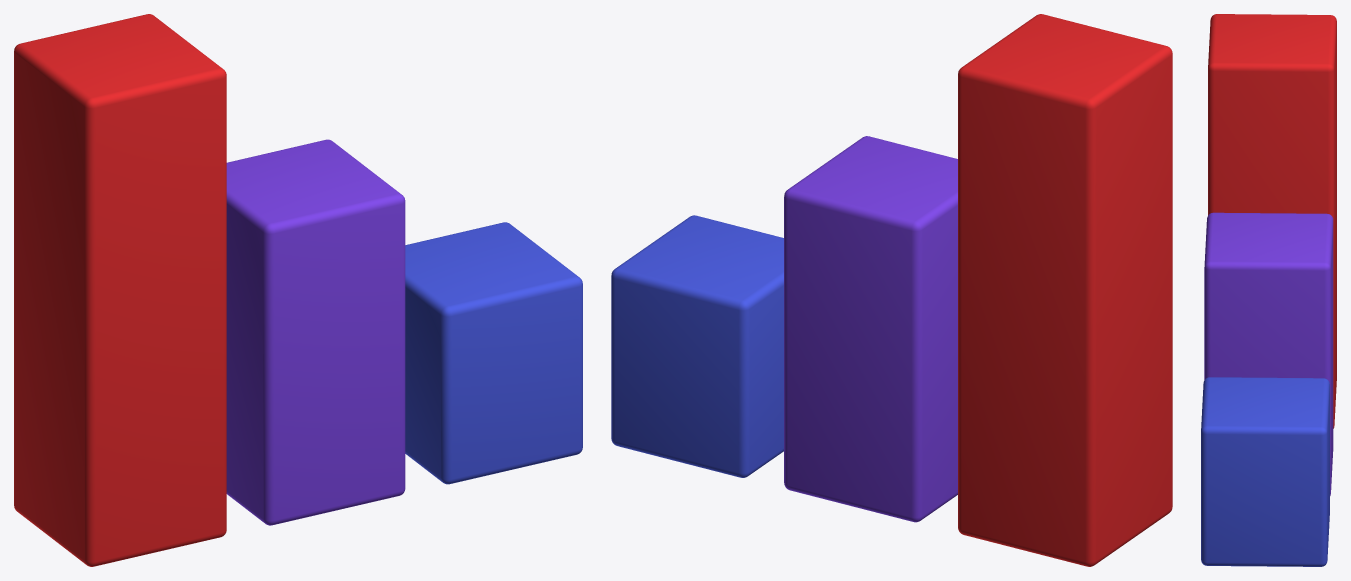
Rendered from graph_2.glb.
The picture shows the model from 3 angles, left to right: view 1: azimuth 30°, elevation 25°; view 2: azimuth 150°, elevation 25°; view 3: azimuth 270°, elevation 25°; orthographic projection. The views are drawn at different scales.
Parts seen in each view (by area): view 1: Cube.002, Cube.003, Cube; view 2: Cube.002, Cube.003, Cube; view 3: Cube.002, Cube, Cube.003.
Boxes of the visible parts, x1,y1,x2,y2 form: Cube.002: (14, 14, 226, 566); Cube.003: (226, 139, 405, 525); Cube: (405, 222, 582, 484); Cube.002: (958, 14, 1172, 566); Cube.003: (784, 136, 957, 522); Cube: (611, 215, 783, 477); Cube.002: (1208, 14, 1336, 428); Cube: (1201, 377, 1329, 566); Cube.003: (1204, 212, 1333, 495).
Bounding box in the file's own units: 27.03 × 24.5 × 8.21.
